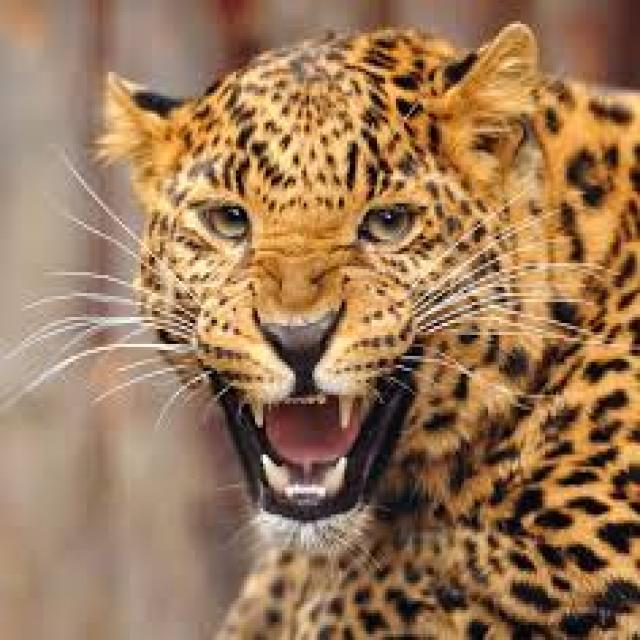Jaguar: (78, 24, 640, 640)
